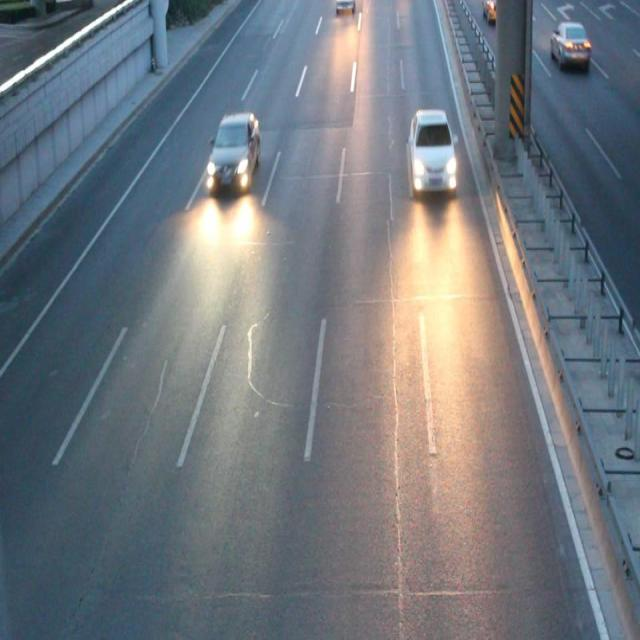car: (207, 112, 260, 188), (408, 112, 454, 188), (547, 20, 588, 63), (481, 1, 504, 19)
truck: (335, 1, 355, 14)
